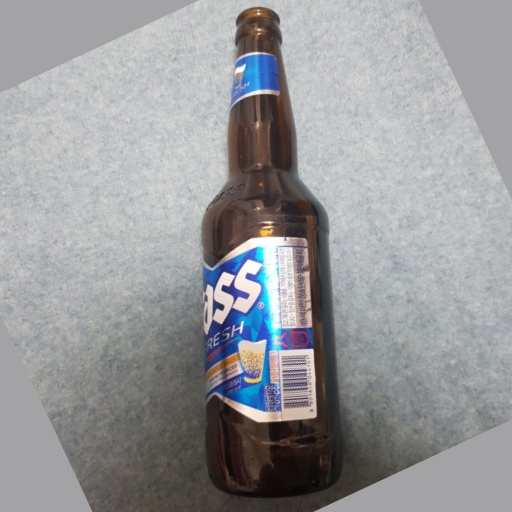Glass_1: (196, 4, 347, 499)
